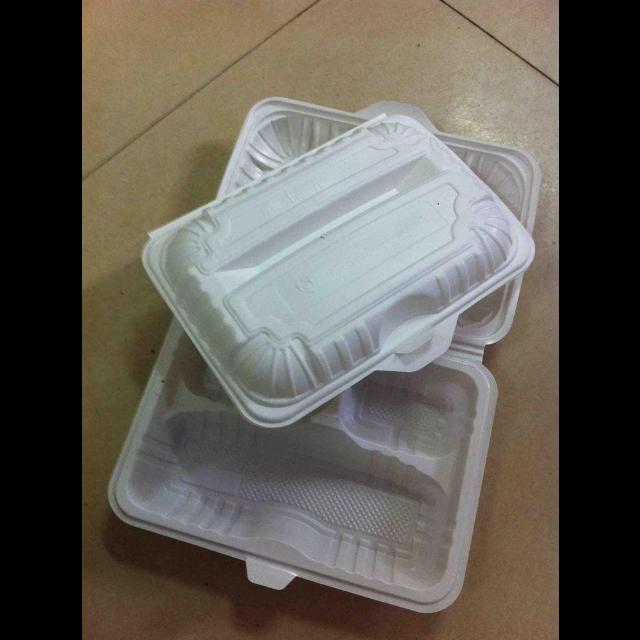plastic_box: (102, 89, 544, 615)
